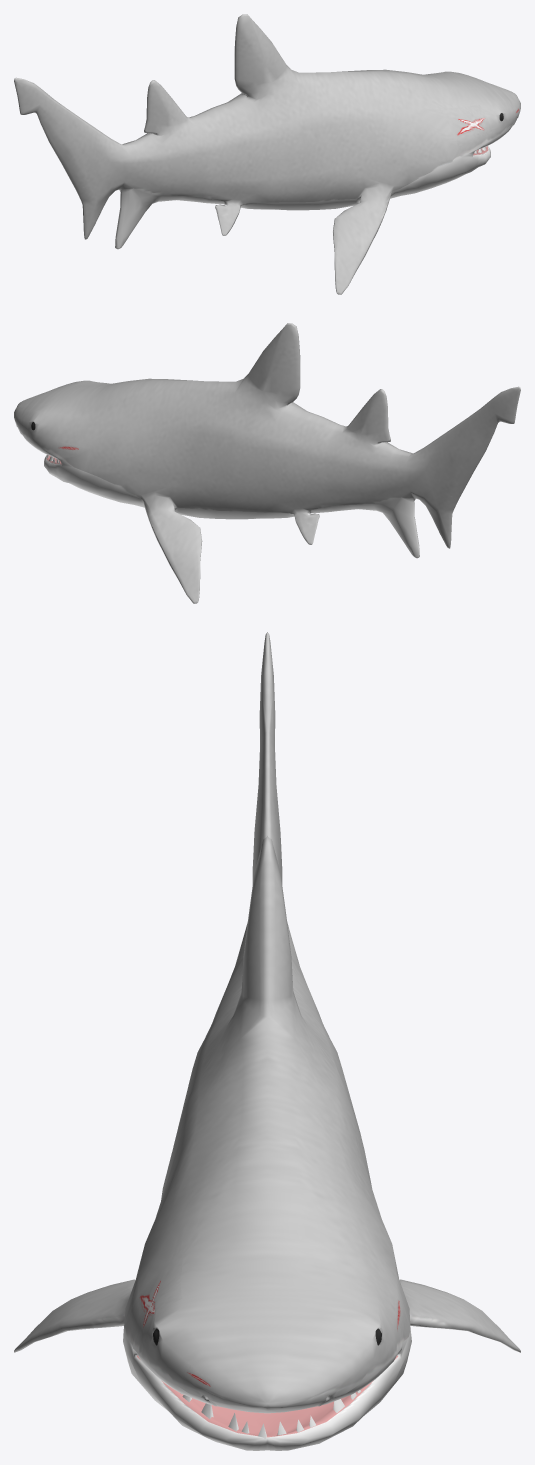
File: shark1.fbx
3 renders of one model, top to bottom at view 1: azimuth 30°, elevation 25°; view 2: azimuth 150°, elevation 25°; view 3: azimuth 270°, elevation 25°, orthographic. The views are drawn at different scales.
Visible parts, largest first — view 1: pPlane1; view 2: pPlane1; view 3: pPlane1.
Part boxes in pixels (x1,y1,x2,y2): pPlane1: (14,14,520,294); pPlane1: (14,323,520,603); pPlane1: (14,632,520,1450).
Size of the model in its own units: 501 by 230 by 219.
Materials: 2 (2 with a texture image).
